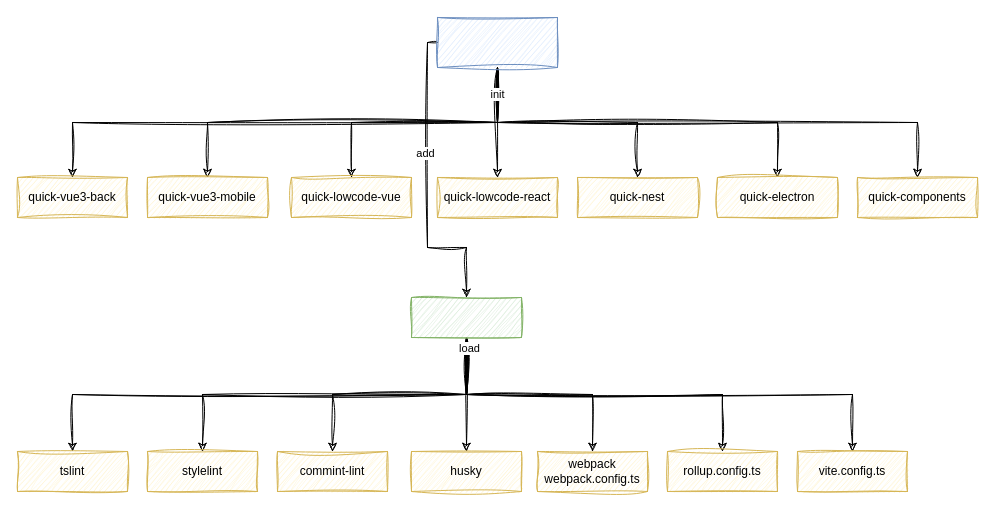
Some shapes in this 995 by 509 pixel diagram are drawn without their labels. Here are the shapes that lost their labels. From the top down, the box of each, then its label:
(436, 16, 558, 68): quick-cli
(410, 296, 522, 338): Quick-config
